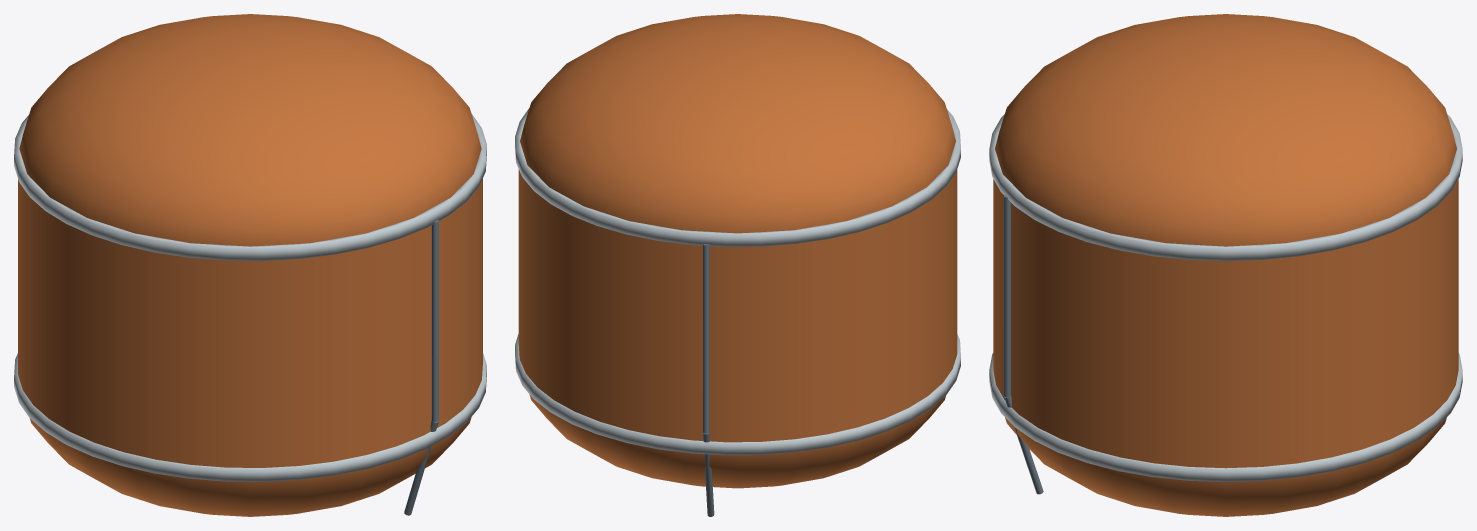
The model's file is titan_stage_2_nto_vessel.glb.
The picture shows the model from 3 angles, left to right: view 1: azimuth 30°, elevation 25°; view 2: azimuth 150°, elevation 25°; view 3: azimuth 270°, elevation 25°; orthographic projection. The views are drawn at different scales.
Visible parts, largest first — view 1: titan_stage_2_nto_vessel.mesh_Spray-on_insulation, titan_stage_2_nto_vessel.mesh_Satin_aluminum, titan_stage_2_nto_vessel.mesh_Machined_steel; view 2: titan_stage_2_nto_vessel.mesh_Spray-on_insulation, titan_stage_2_nto_vessel.mesh_Satin_aluminum, titan_stage_2_nto_vessel.mesh_Machined_steel; view 3: titan_stage_2_nto_vessel.mesh_Spray-on_insulation, titan_stage_2_nto_vessel.mesh_Satin_aluminum, titan_stage_2_nto_vessel.mesh_Machined_steel.
Part boxes in pixels (x1=…): titan_stage_2_nto_vessel.mesh_Spray-on_insulation: x1=18, y1=14, x2=482, y2=516; titan_stage_2_nto_vessel.mesh_Satin_aluminum: x1=14, y1=113, x2=486, y2=481; titan_stage_2_nto_vessel.mesh_Machined_steel: x1=404, y1=220, x2=438, y2=515; titan_stage_2_nto_vessel.mesh_Spray-on_insulation: x1=518, y1=14, x2=957, y2=488; titan_stage_2_nto_vessel.mesh_Satin_aluminum: x1=515, y1=108, x2=960, y2=455; titan_stage_2_nto_vessel.mesh_Machined_steel: x1=703, y1=244, x2=714, y2=516; titan_stage_2_nto_vessel.mesh_Spray-on_insulation: x1=993, y1=14, x2=1458, y2=516; titan_stage_2_nto_vessel.mesh_Satin_aluminum: x1=989, y1=114, x2=1462, y2=481; titan_stage_2_nto_vessel.mesh_Machined_steel: x1=1003, y1=195, x2=1043, y2=494.
Bounding box in the file's own units: 2.81 × 2.78 × 2.81.
